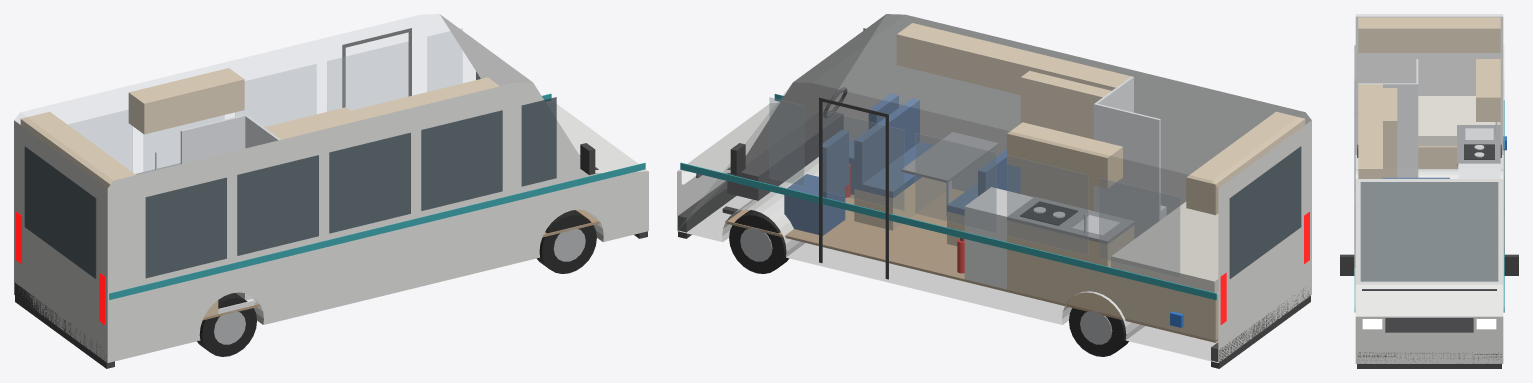
Rendered from force_urbania_4400wb.glb.
3 renders of one model, left to right at view 1: azimuth 30°, elevation 25°; view 2: azimuth 150°, elevation 25°; view 3: azimuth 270°, elevation 25°, orthographic. The views are drawn at different scales.
Parts seen in each view (by area): view 1: Body_Shell, Body_Cutaway_LeftWall_Roof, Window_Right_1, Window_Right_2, Window_Right_3, Window_Right_0, Window_Rear, Storage_Overhead_Left_Kitchen, Window_Left_0, Stripe_Right, Window_Left_1, Storage_Overhead_Rear (+12 smaller); view 2: Body_Cutaway_LeftWall_Roof, Body_Shell, Storage_Overhead_Right, Floor_Living, Kitchen_Base_Cabinets, Window_Left_1, Window_Left_2, Window_Left_3, Window_Left_0, WetRoom_Wall_Side, Bed_Mattress_Double, Storage_Wardrobe_Tall (+28 smaller); view 3: Body_Shell, Body_Cutaway_LeftWall_Roof, Windscreen, Storage_Overhead_Rear, Bed_Mattress_Double, Storage_Overhead_Right, WetRoom_Wall_Front, Storage_Overhead_Left_Kitchen, Storage_Wardrobe_Tall, Grille, Bumper_Front, Kitchen_Countertop (+11 smaller).
Part boxes in pixels (x1,y1,x2,y2): Body_Shell: [14, 14, 648, 362]; Body_Cutaway_LeftWall_Roof: [15, 14, 530, 187]; Window_Right_1: [329, 132, 410, 233]; Window_Right_2: [237, 155, 318, 255]; Window_Right_3: [145, 177, 226, 278]; Window_Right_0: [421, 110, 502, 210]; Window_Rear: [24, 146, 96, 278]; Storage_Overhead_Left_Kitchen: [128, 68, 244, 134]; Window_Left_0: [327, 42, 408, 111]; Stripe_Right: [109, 163, 645, 299]; Window_Left_1: [235, 64, 316, 126]; Storage_Overhead_Rear: [20, 111, 135, 188]; Body_Cutaway_LeftWall_Roof: [677, 14, 1310, 362]; Body_Shell: [677, 14, 1311, 362]; Storage_Overhead_Right: [896, 23, 1131, 94]; Floor_Living: [725, 188, 1218, 342]; Kitchen_Base_Cabinets: [1007, 220, 1134, 313]; Window_Left_1: [915, 133, 996, 233]; Window_Left_2: [1007, 155, 1088, 255]; Window_Left_3: [1099, 178, 1179, 277]; Window_Left_0: [823, 110, 904, 210]; WetRoom_Wall_Side: [1093, 103, 1160, 238]; Bed_Mattress_Double: [1111, 201, 1218, 293]; Storage_Wardrobe_Tall: [1020, 71, 1111, 210]; Body_Shell: [1355, 16, 1503, 363]; Body_Cutaway_LeftWall_Roof: [1356, 14, 1502, 178]; Windscreen: [1360, 182, 1498, 281]; Storage_Overhead_Rear: [1358, 17, 1500, 52]; Bed_Mattress_Double: [1418, 96, 1498, 146]; Storage_Overhead_Right: [1358, 84, 1382, 178]; WetRoom_Wall_Front: [1358, 83, 1418, 177]; Storage_Overhead_Left_Kitchen: [1476, 59, 1500, 121]; Storage_Wardrobe_Tall: [1383, 88, 1397, 177]; Grille: [1385, 318, 1473, 332]; Bumper_Front: [1357, 352, 1501, 368]; Kitchen_Countertop: [1457, 125, 1500, 166].
Bounding box in the file's own units: 7.02 × 2.55 × 2.54.
